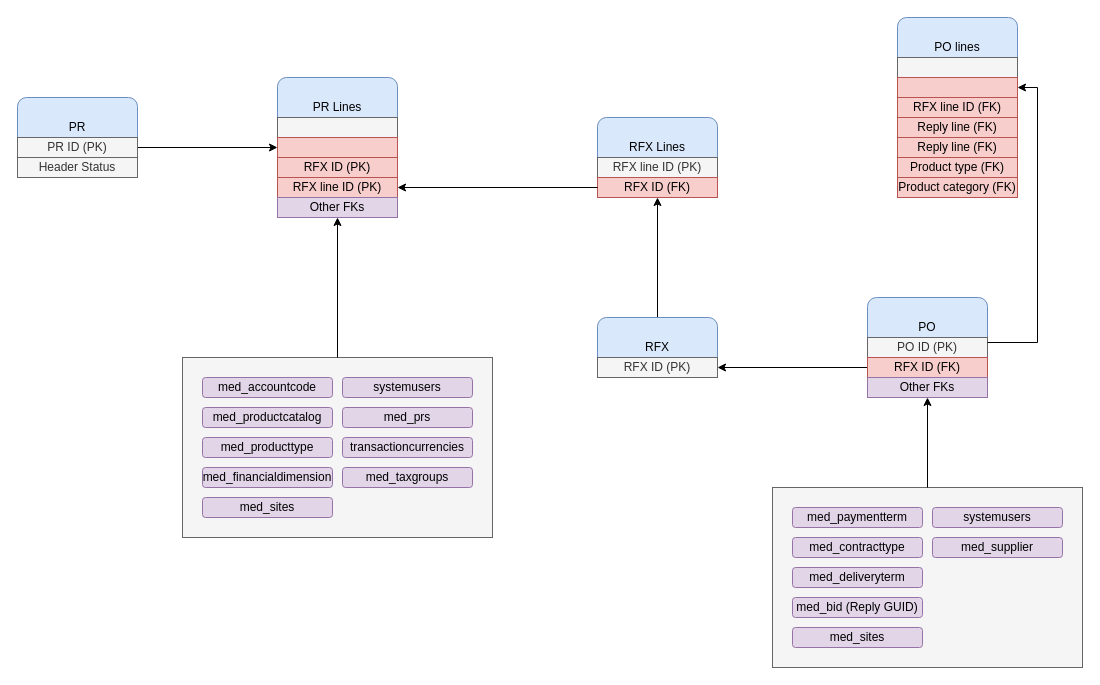
Some shapes in this 1100 by 685 pixel diagram are drawn without their labels. Here are the shapes that lost their labels. From the top down, the centre of each, then its label:
At point 957,67: "PO line ID (PK)".
At point 957,87: "PO ID (FK)".
At point 337,127: "PR line ID (PK)".
At point 337,147: "PR ID (FK)".
